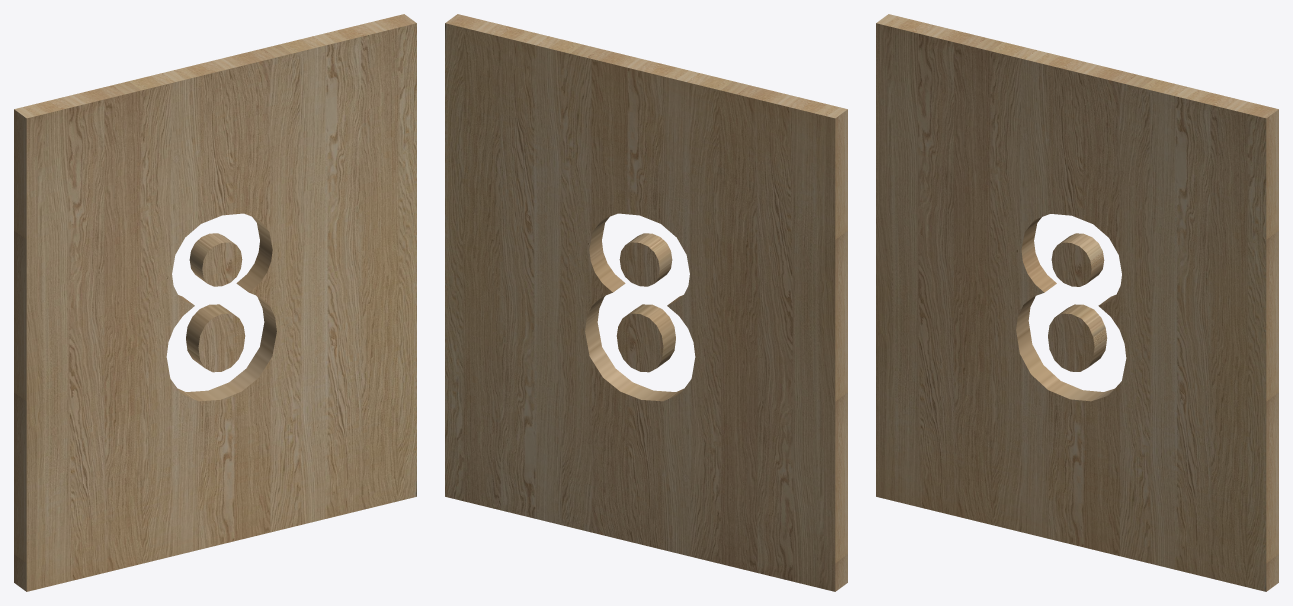
The picture shows the model from 3 angles, left to right: view 1: azimuth 30°, elevation 25°; view 2: azimuth 150°, elevation 25°; view 3: azimuth 330°, elevation 25°; orthographic projection.
Visible parts, largest first — view 1: so8; view 2: so8; view 3: so8.
Boxes of the visible parts, <box> form: so8: <box>14,14,416,591</box>; so8: <box>445,14,847,591</box>; so8: <box>876,14,1278,591</box>.
Bounding box in the file's own units: 2.89 × 3.36 × 0.1618.
1 material, 1 textured.
